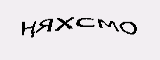М: (98, 16, 119, 34)
О: (119, 18, 139, 38)
С: (77, 13, 97, 31)
Х: (54, 14, 75, 32)
Я: (35, 15, 53, 35)
Ң: (19, 19, 36, 38)
